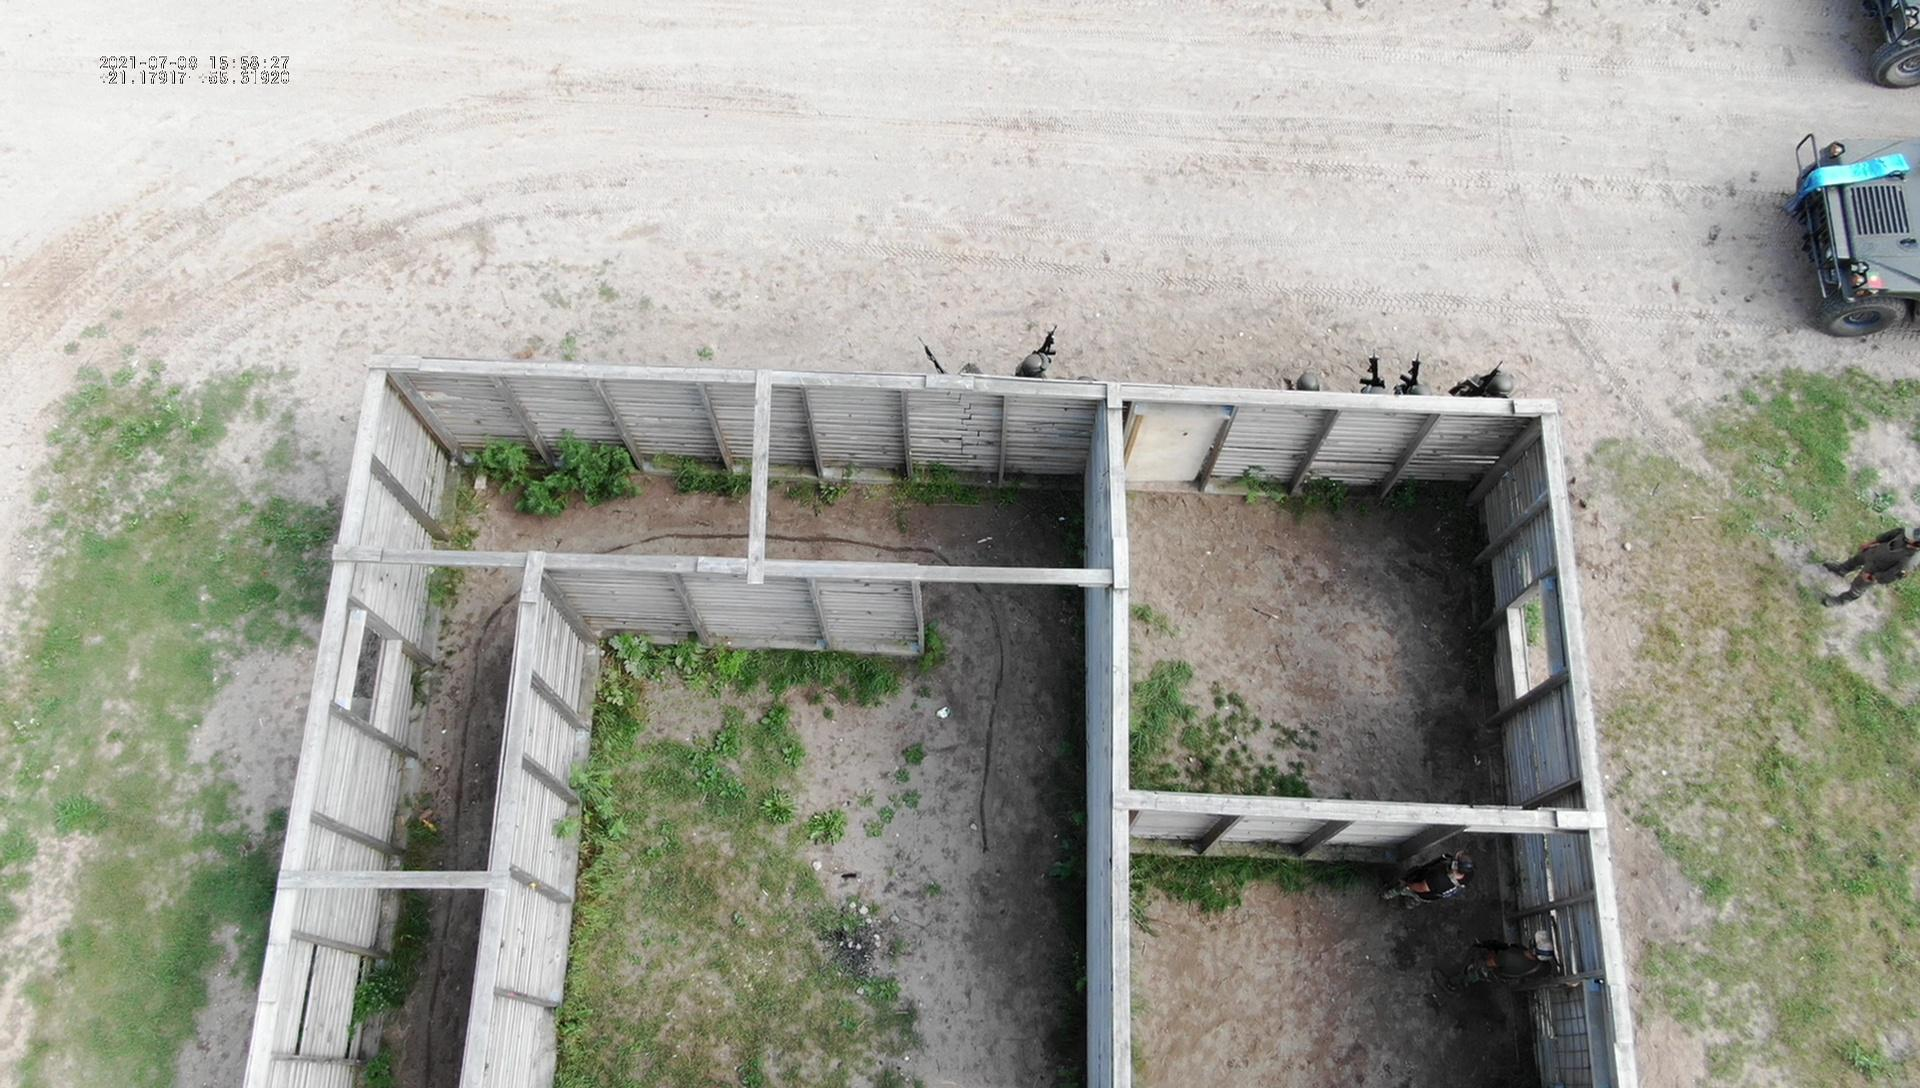Soldier: (1425, 928, 1552, 1037), (1386, 847, 1472, 952), (1818, 522, 1919, 612), (1011, 328, 1083, 384), (1448, 361, 1511, 405), (1398, 343, 1429, 400), (1364, 348, 1393, 394)
